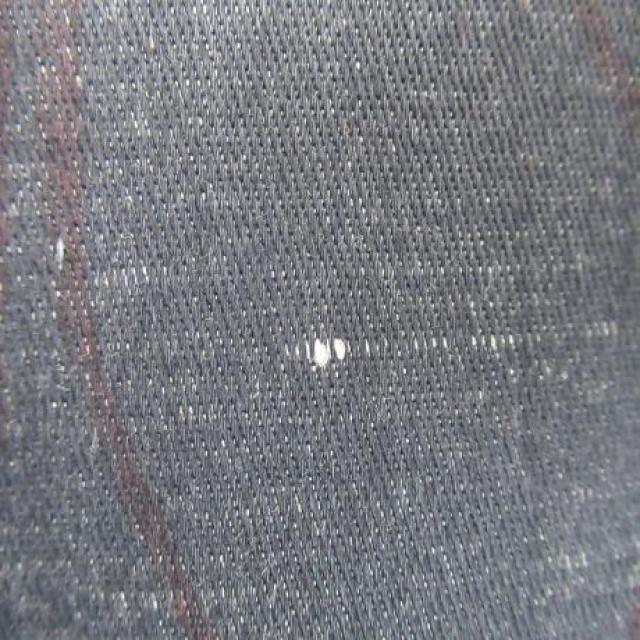stains: (188, 251, 640, 453)
